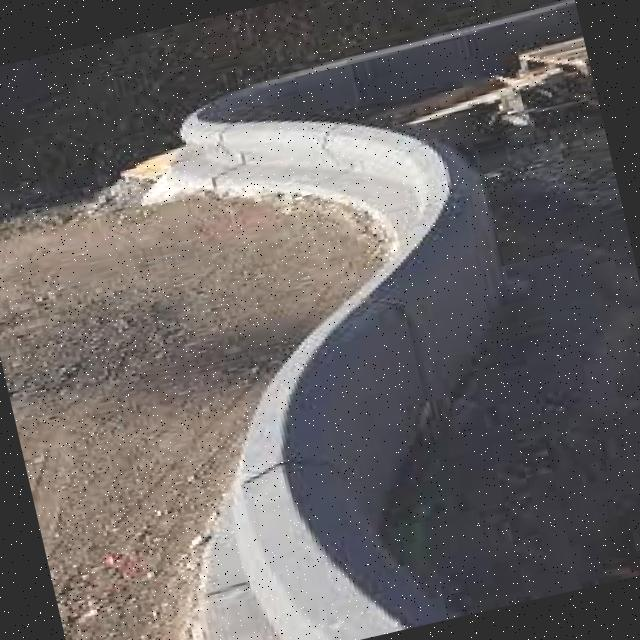curb: (181, 298, 471, 640), (361, 124, 530, 407), (169, 79, 381, 247)
